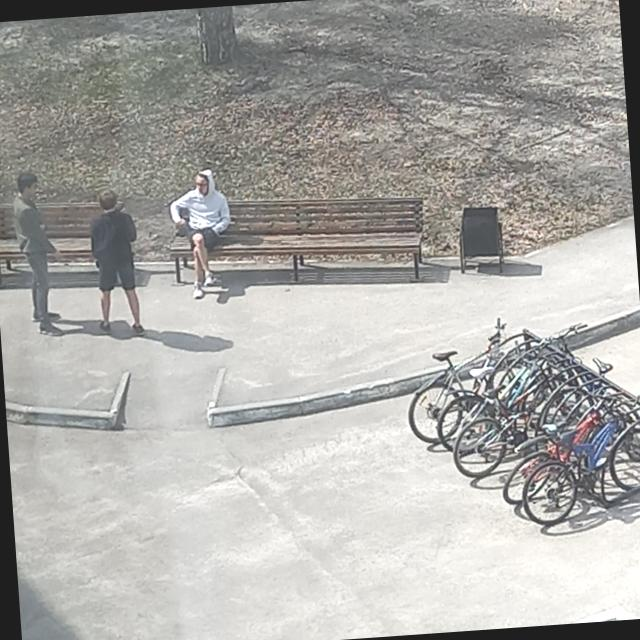person: (8, 168, 66, 336), (166, 166, 236, 299), (86, 187, 144, 335)
